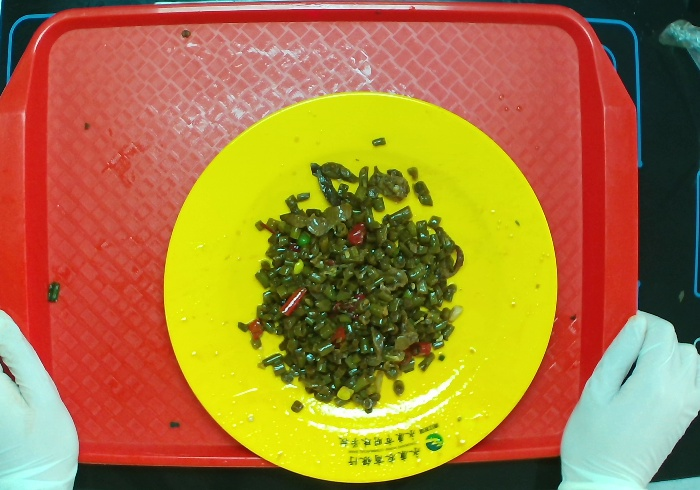YKMZ-Huang_Se_Mian_Pan: (161, 92, 561, 485)
